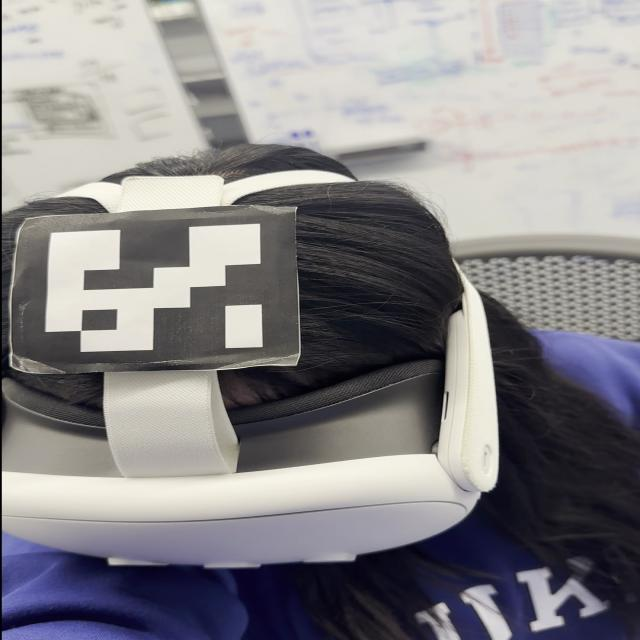Aruco Marker: (10, 202, 304, 374)
VR Headset: (2, 155, 503, 569)
